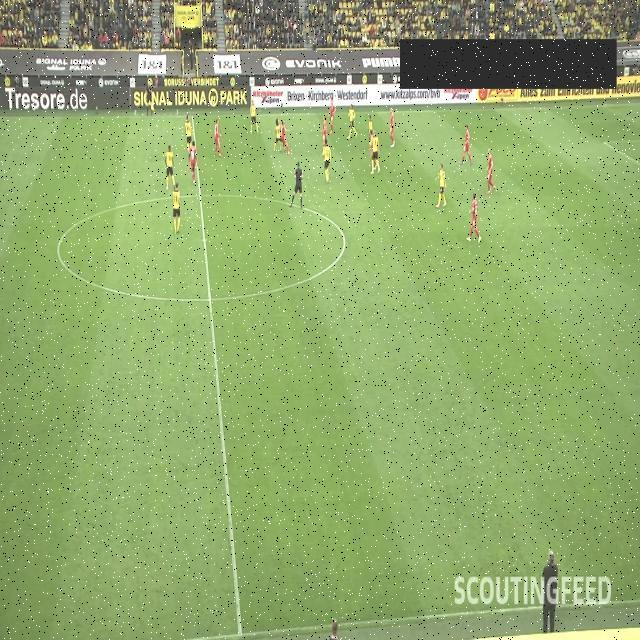Ball: (292, 23, 298, 31)
Referee: (290, 160, 304, 210), (146, 81, 154, 117)
TEAM 1: (466, 192, 482, 244), (460, 124, 472, 166), (486, 148, 496, 194), (188, 140, 198, 184), (280, 118, 290, 156), (214, 119, 222, 158), (328, 100, 336, 134), (389, 106, 395, 148), (322, 115, 328, 147)
TEAM 2: (164, 144, 176, 190), (435, 163, 447, 208), (172, 181, 182, 235), (369, 130, 381, 174), (321, 138, 332, 183), (272, 118, 284, 153), (347, 102, 358, 140), (250, 100, 260, 134), (185, 115, 192, 154), (368, 114, 373, 143)
